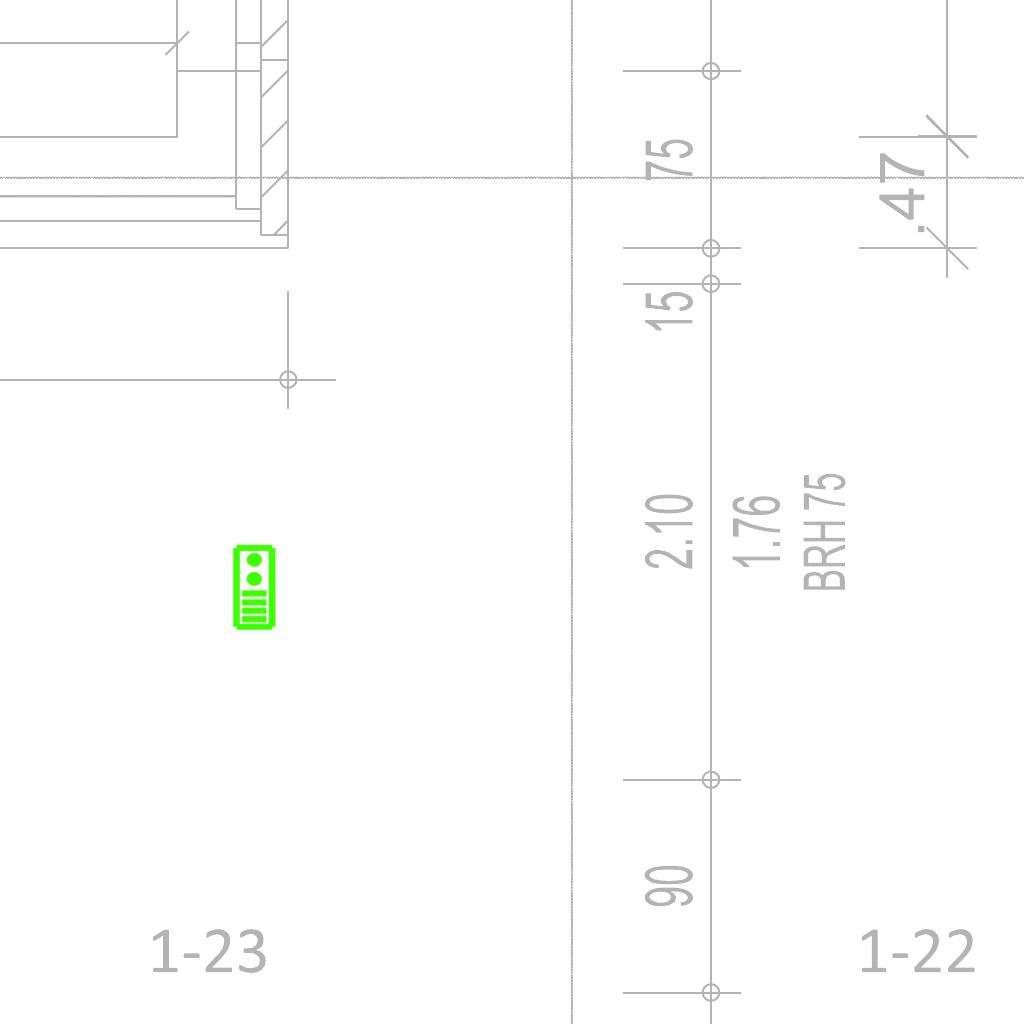Gegensprechanlage_mit_Video: (230, 543, 277, 631)
